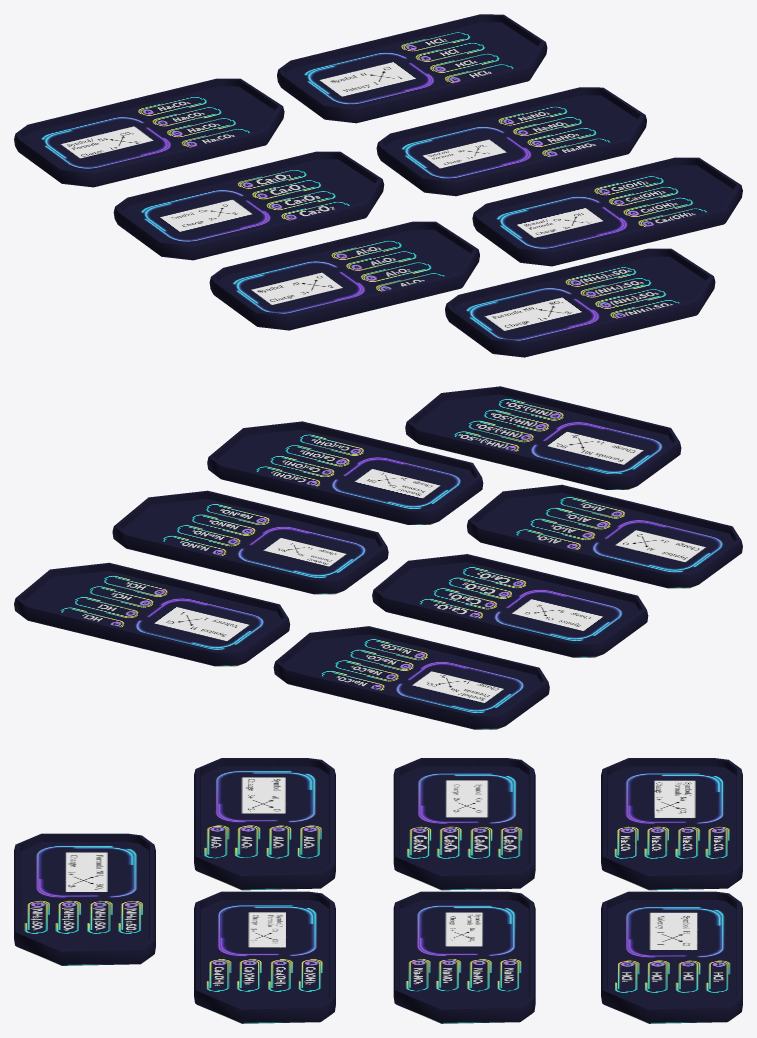
File: level_7.fbx
3 renders of one model, top to bottom at view 1: azimuth 30°, elevation 25°; view 2: azimuth 150°, elevation 25°; view 3: azimuth 270°, elevation 25°, orthographic. The views are drawn at different scales.
Parts seen in each view (by area): view 1: q3, q7, q6, q1, q5, q2, q4; view 2: q5, q4, q1, q3, q2, q7, q6; view 3: q4, q2, q7, q6, q5, q3, q1.
Boxes of the visible parts, x1,y1,x2,y2 form: q3: (209,221,479,330); q7: (445,248,715,357); q6: (472,157,742,266); q1: (14,78,284,187); q5: (277,14,547,123); q2: (113,151,384,260); q4: (376,87,646,196); q5: (14,562,290,666); q4: (112,490,388,594); q1: (273,626,549,729); q3: (467,484,742,588); q2: (372,554,648,657); q7: (405,386,681,489); q6: (207,421,483,524); q4: (393,891,535,1023); q2: (393,758,535,890); q7: (14,833,155,965); q6: (194,891,335,1023); q5: (601,891,742,1023); q3: (194,758,335,890); q1: (601,758,742,890).
Size of the model in its own units: 1412 by 40.69 by 1721.
Materials: 1 (1 with a texture image).
